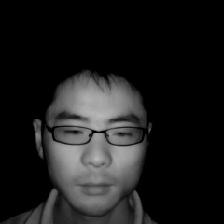normal: (20, 62, 154, 216)
